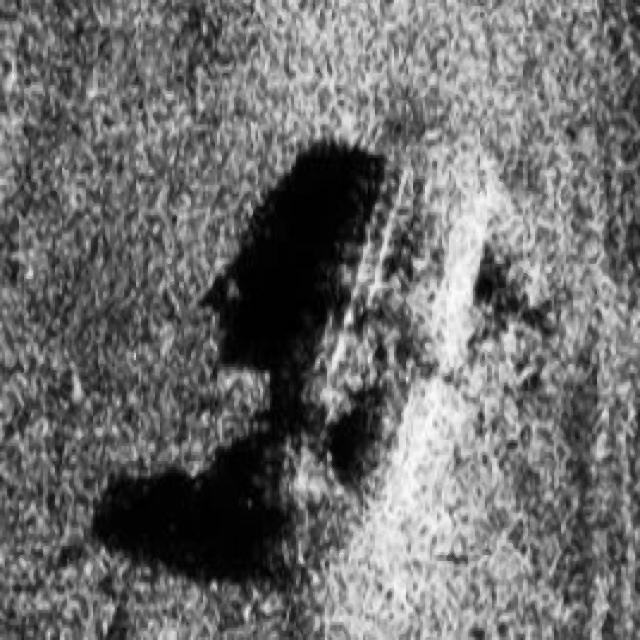Ship: (254, 121, 490, 599)
